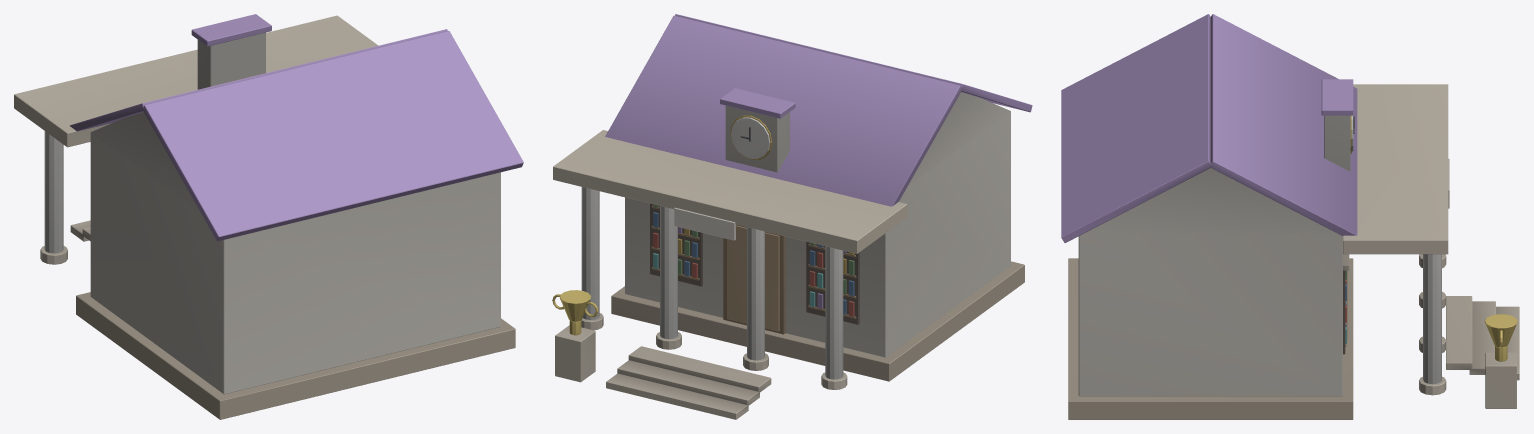
Rendered from records_hall.glb.
The picture shows the model from 3 angles, left to right: view 1: azimuth 30°, elevation 25°; view 2: azimuth 150°, elevation 25°; view 3: azimuth 270°, elevation 25°; orthographic projection. The views are drawn at different scales.
Size of the model in its own units: 7 by 5.46 by 8.68.
